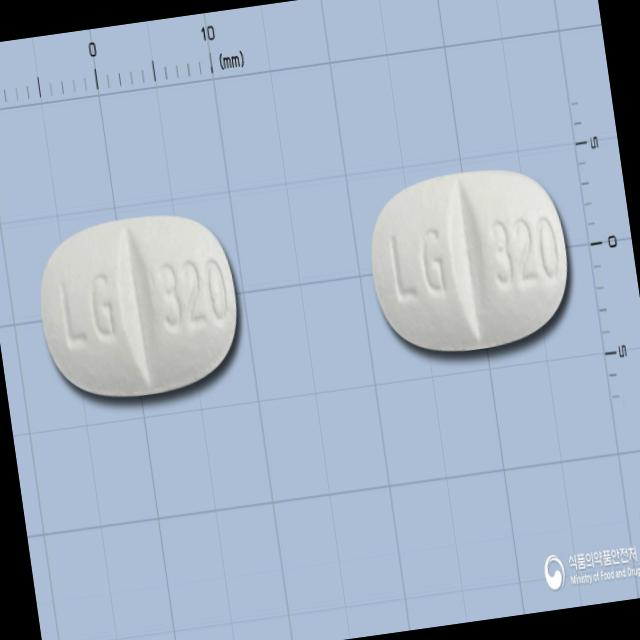Factive: (360, 156, 578, 364), (29, 202, 248, 408)
